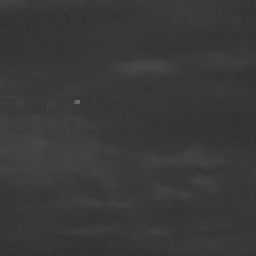Target: (72, 99, 80, 105)
